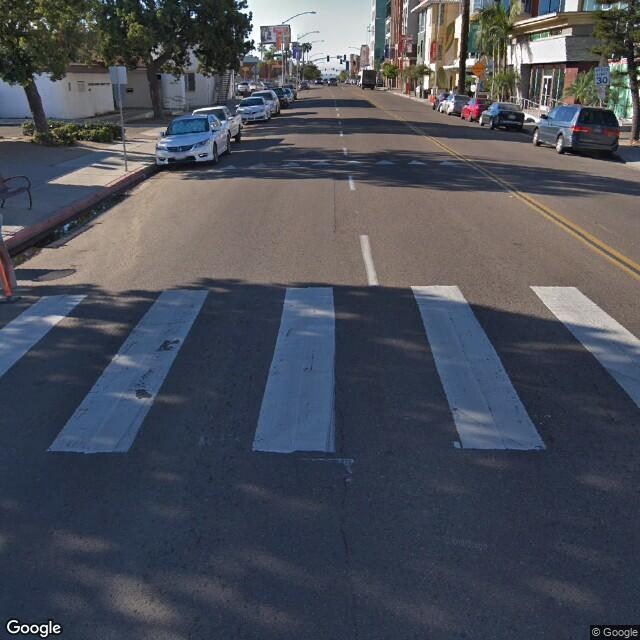road line: (348, 168, 389, 290)
